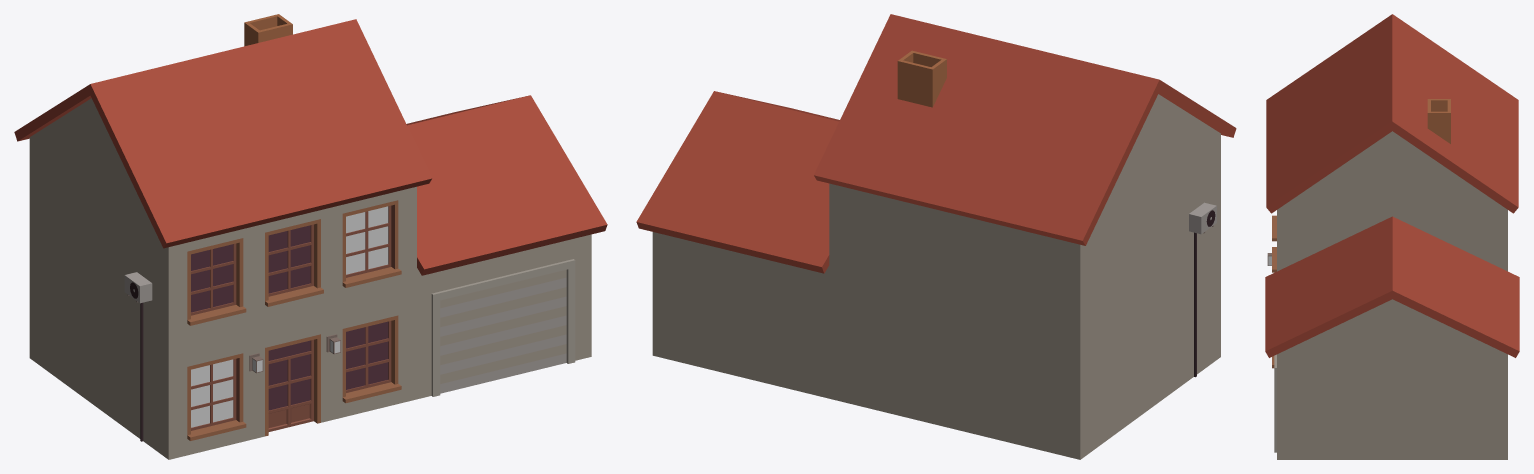
The model's file is Building_32.FBX.
3 renders of one model, left to right at view 1: azimuth 30°, elevation 25°; view 2: azimuth 150°, elevation 25°; view 3: azimuth 270°, elevation 25°, orthographic. The views are drawn at different scales.
Visible parts, largest first — view 1: Building_32, Building_32LP; view 2: Building_32; view 3: Building_32.
Part boxes in pixels (x1,y1,x2,y2): Building_32: (14, 14, 607, 459); Building_32LP: (191, 206, 388, 427); Building_32: (636, 14, 1236, 459); Building_32: (1265, 14, 1519, 459).
Size of the model in its own units: 15.74 by 11.08 by 9.43.
